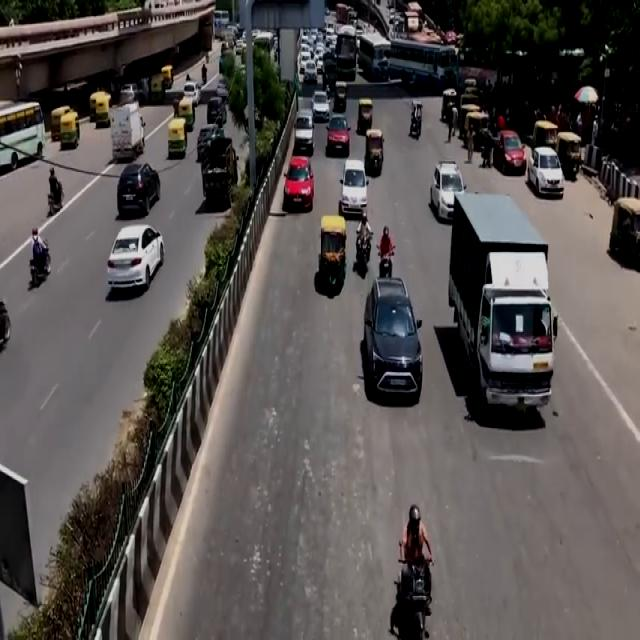BUS: (390, 38, 459, 91), (0, 101, 41, 178), (337, 28, 360, 81)
MOTORCYCLE: (404, 557, 434, 639), (27, 239, 48, 292)
TRUCK: (448, 194, 552, 422)
